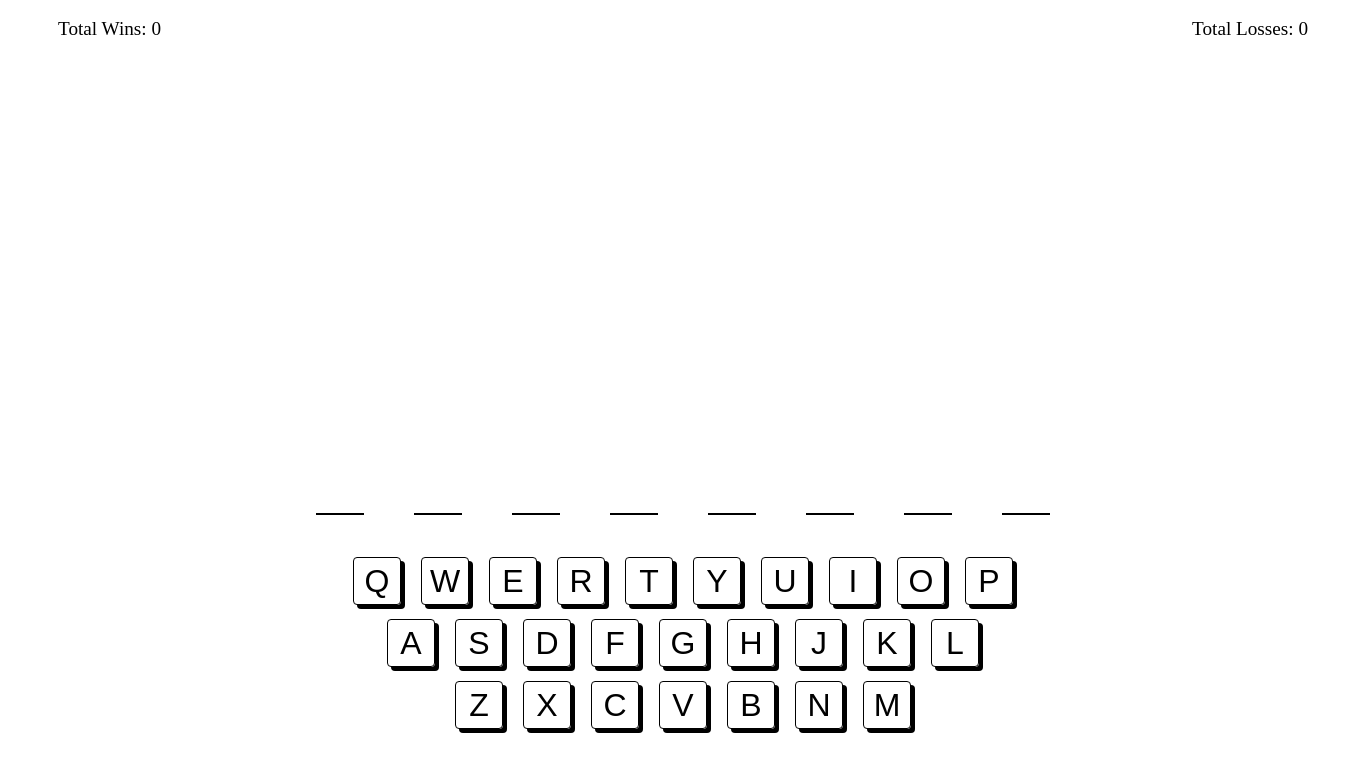
Test case: Hangman game › registers correct guess
This screenshot has width=1366, height=768.
Click the button "s" at (479, 643), box [455, 619, 503, 667]
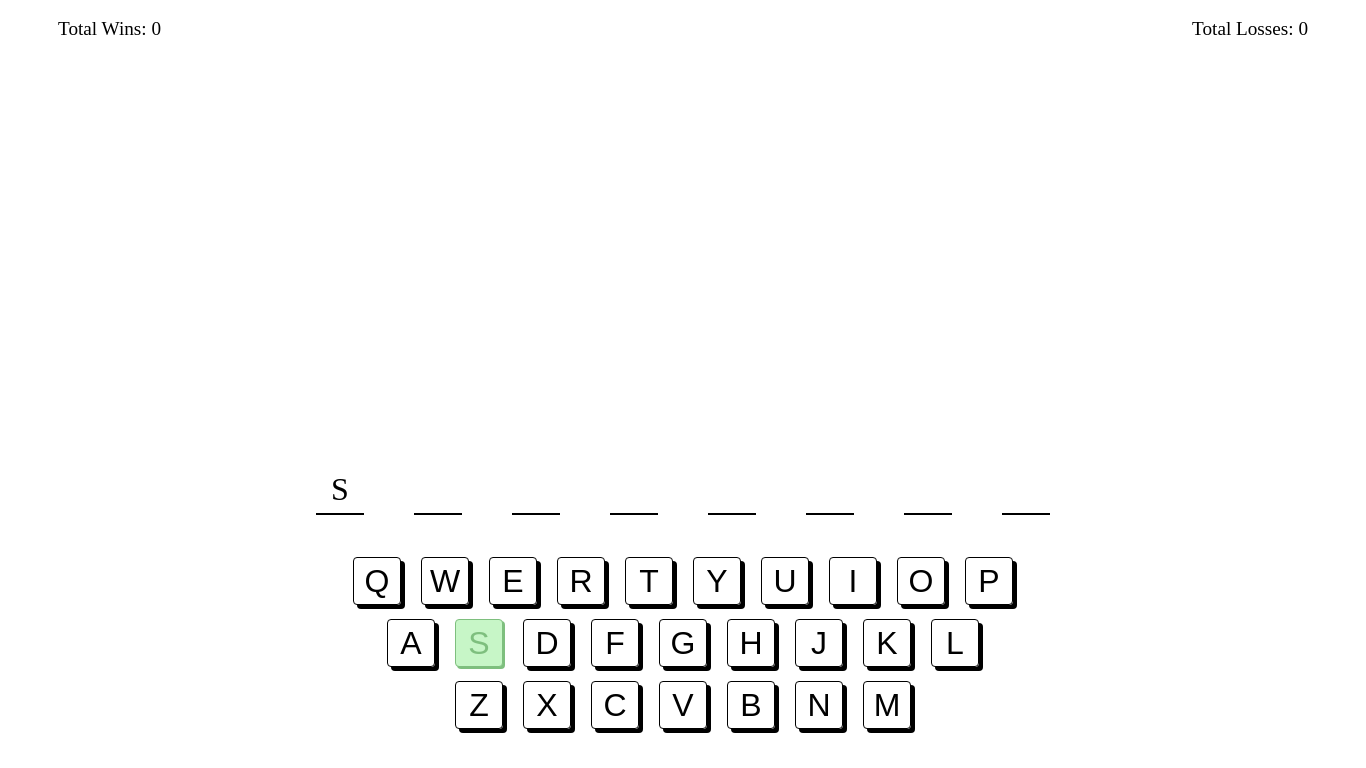
Expected: the text "s" is shown, [331, 470, 349, 508]
